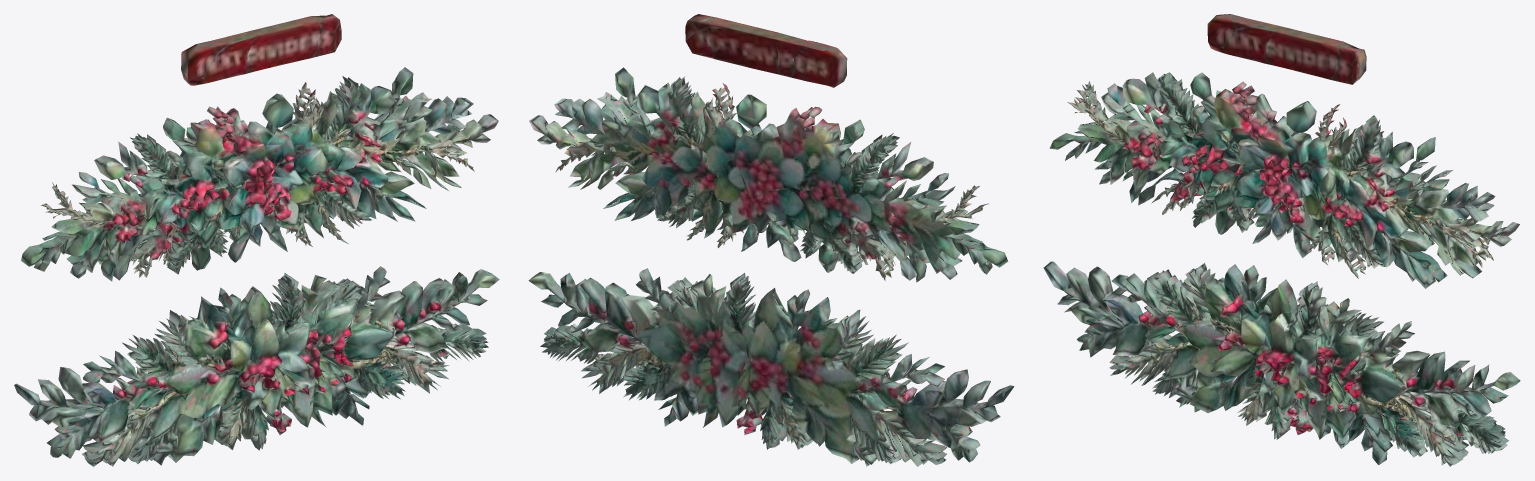
3 renders of one model, left to right at view 1: azimuth 30°, elevation 25°; view 2: azimuth 150°, elevation 25°; view 3: azimuth 330°, elevation 25°, orthographic.
Bounding box in the file's own units: 1.9 × 1.58 × 0.1227.
Materials: 1 (1 with a texture image).
